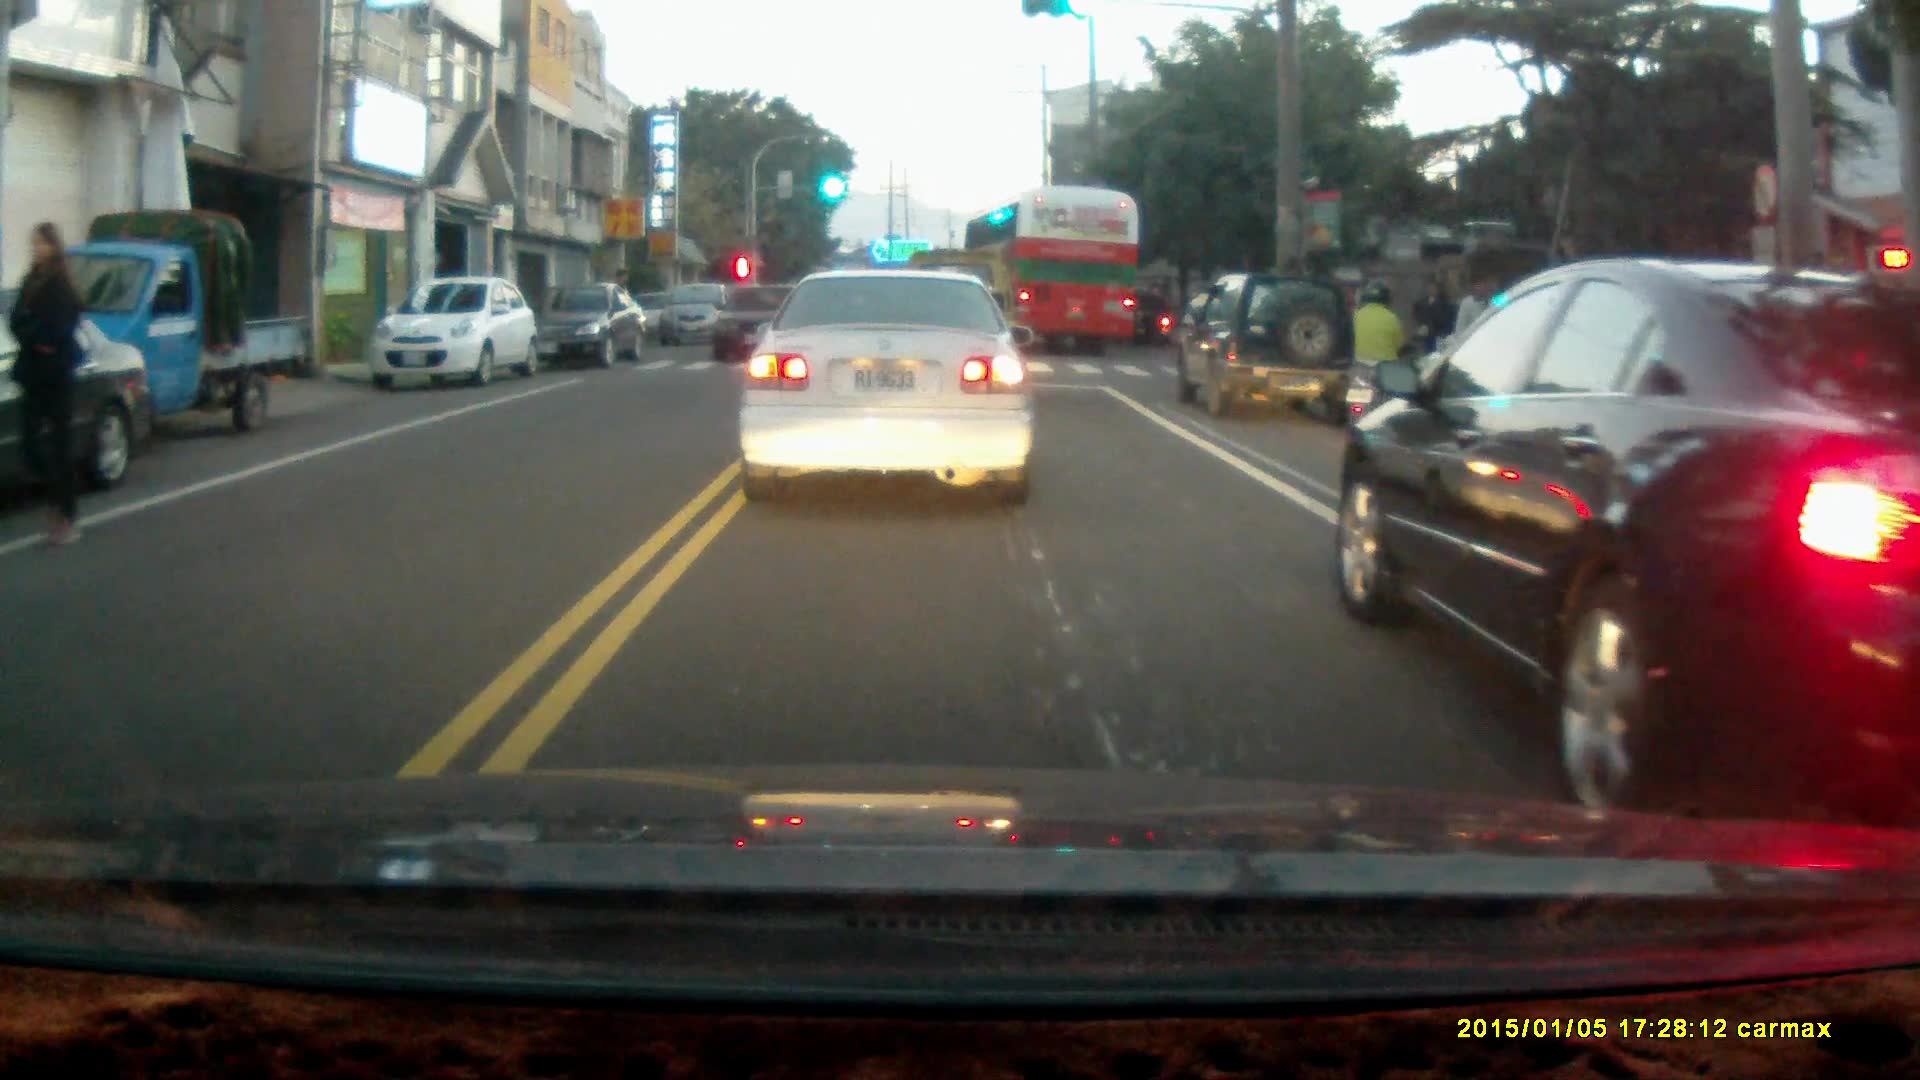pedestrian: (5, 221, 87, 548), (1453, 275, 1502, 387), (1408, 275, 1451, 392)
rider: (1340, 283, 1408, 438), (1116, 292, 1175, 348)
vehicle: (1338, 257, 1920, 829), (731, 267, 1035, 510), (21, 209, 296, 441), (1, 284, 160, 515), (963, 188, 1142, 356), (1175, 275, 1363, 427), (370, 281, 531, 393), (536, 282, 653, 372), (652, 286, 739, 356)
